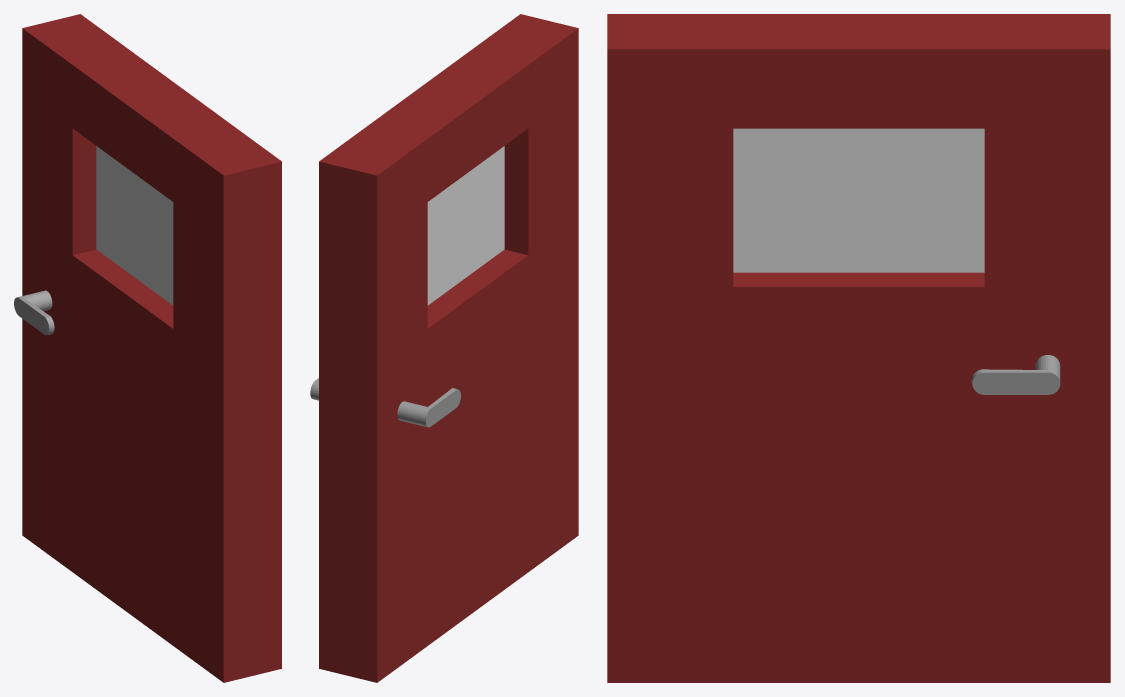
The model's file is DoorWindowCenterRed.fbx.
3 views of the same model, side by side, from view 1: azimuth 30°, elevation 25°; view 2: azimuth 150°, elevation 25°; view 3: azimuth 270°, elevation 25° (orthographic). The views are drawn at different scales.
Visible parts, largest first — view 1: DoorWindowCenterRed, Window, Cylinder.001; view 2: DoorWindowCenterRed, Window, Cylinder.001; view 3: DoorWindowCenterRed, Window, Cylinder.
Part boxes in pixels (x1,y1,x2,y2): DoorWindowCenterRed: (22, 14, 281, 682); Window: (96, 146, 173, 305); Cylinder.001: (14, 290, 54, 335); DoorWindowCenterRed: (319, 14, 578, 682); Window: (427, 146, 504, 305); Cylinder.001: (397, 388, 460, 427); DoorWindowCenterRed: (607, 14, 1110, 682); Window: (733, 128, 984, 272); Cylinder: (971, 355, 1060, 394).
Bounding box in the file's own units: 119 × 500 × 360.
